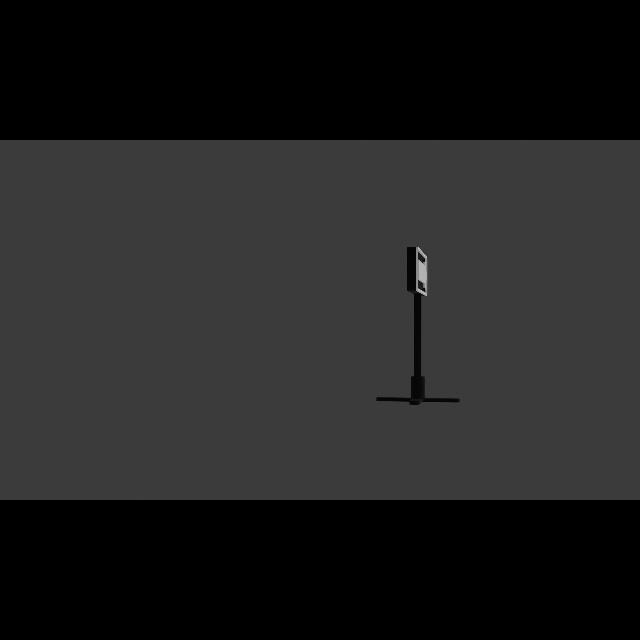sign_oneway_right: (407, 245, 432, 299)
